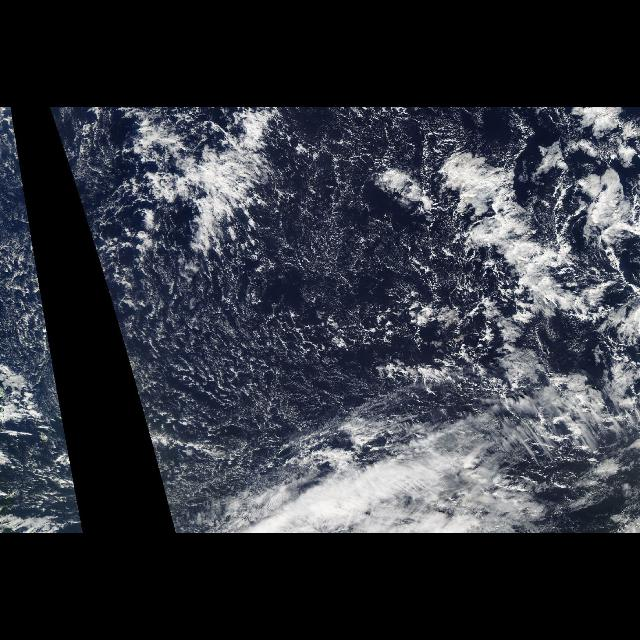Gravel: (88, 226, 436, 450), (44, 311, 68, 451)
Sugar: (110, 241, 500, 454)
